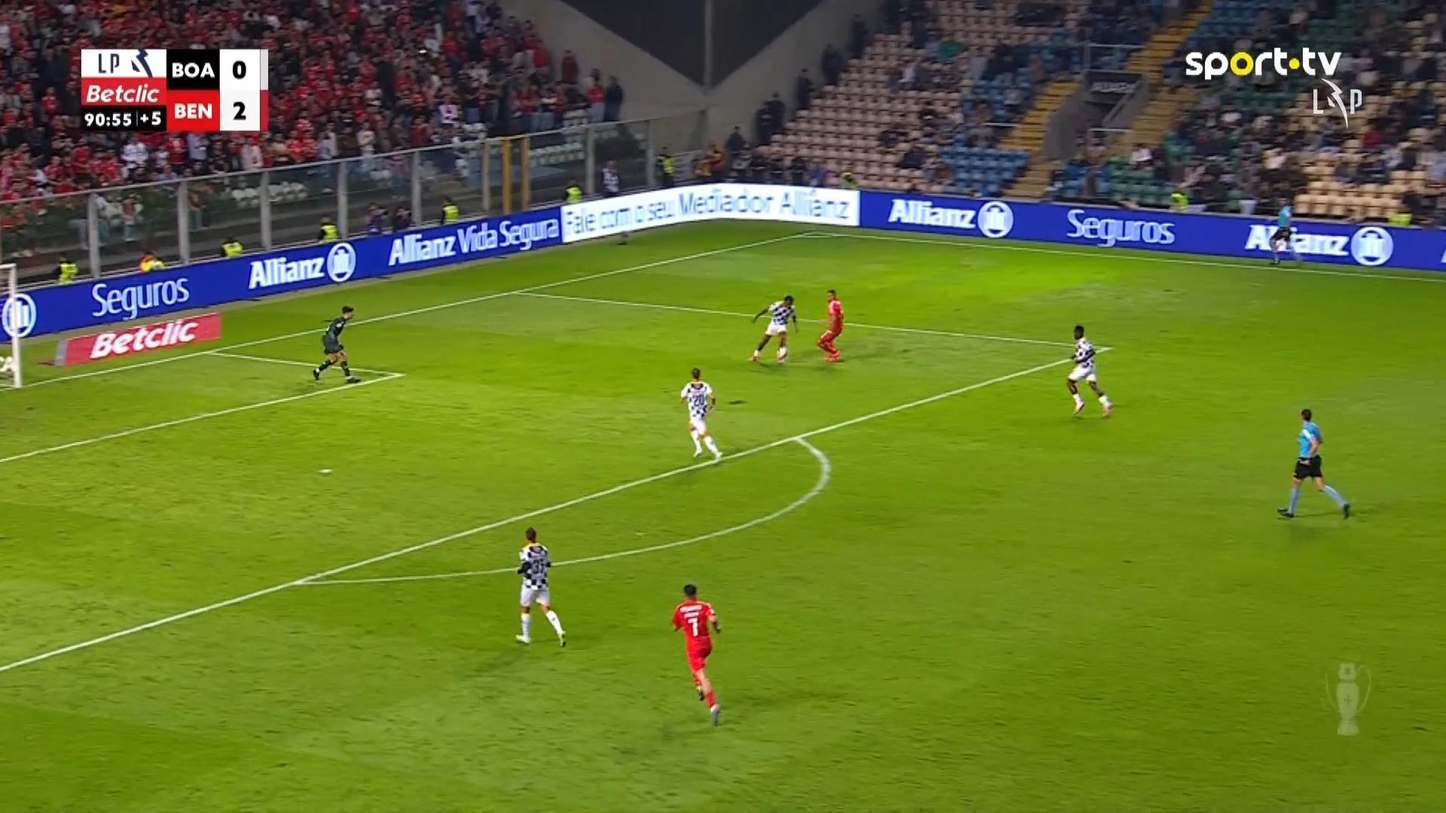ball: (776, 346, 786, 359)
goalkeeper: (311, 303, 361, 383)
player: (669, 582, 722, 726), (514, 526, 566, 647), (1066, 324, 1113, 418), (679, 366, 722, 463), (749, 294, 798, 364), (816, 288, 844, 361)
referee: (1277, 407, 1350, 519), (1267, 196, 1302, 265)
